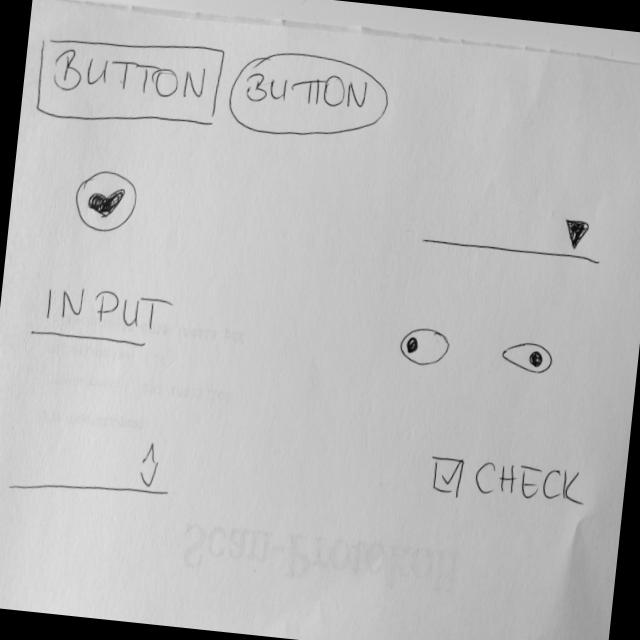button: (33, 28, 229, 139), (225, 45, 395, 150), (72, 167, 142, 238)
checkbox: (428, 448, 590, 514)
input: (27, 280, 179, 355)
number-input: (6, 422, 179, 512)
select: (422, 197, 606, 266)
toggle: (396, 322, 453, 370), (499, 338, 558, 380)
